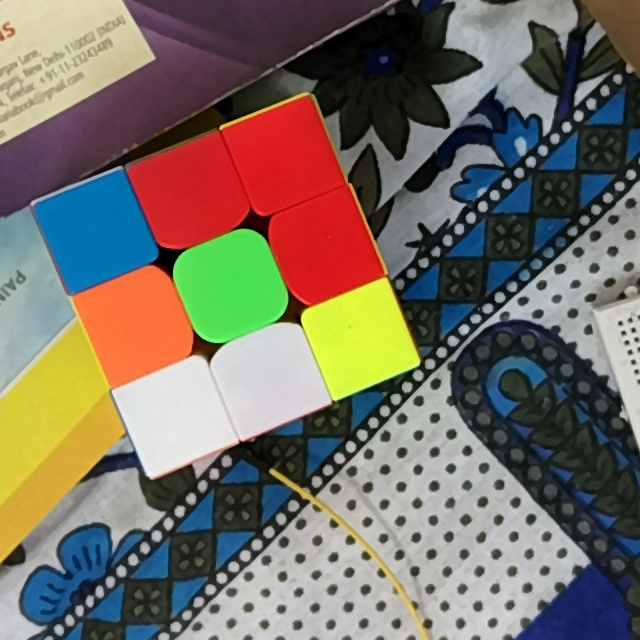tile: (99, 285, 173, 362), (192, 250, 268, 323), (152, 159, 228, 230), (59, 193, 133, 265), (247, 120, 321, 191), (288, 210, 358, 282), (139, 382, 210, 449), (235, 342, 307, 408), (325, 304, 396, 369)
